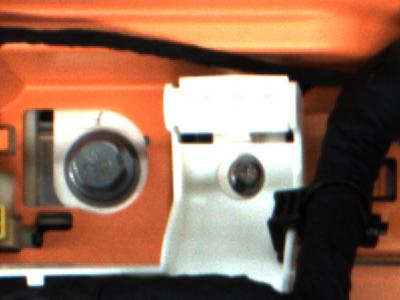nut_b: (60, 129, 140, 208)
